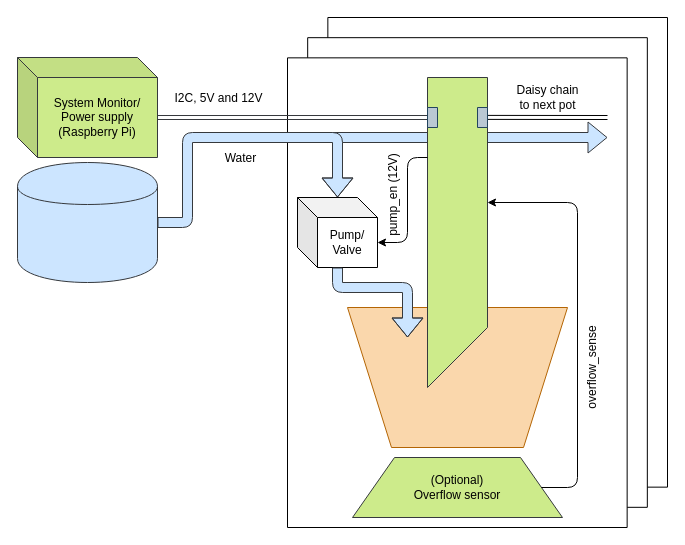
Some shapes in this 685 by 545 pixel diagram are drawn without their labels. Here are the shapes that lost their labels. From the top down, the centre of each, then its label:
the point at 87,222: Water Reservoir
the point at 457,232: Sensor/ Controller
